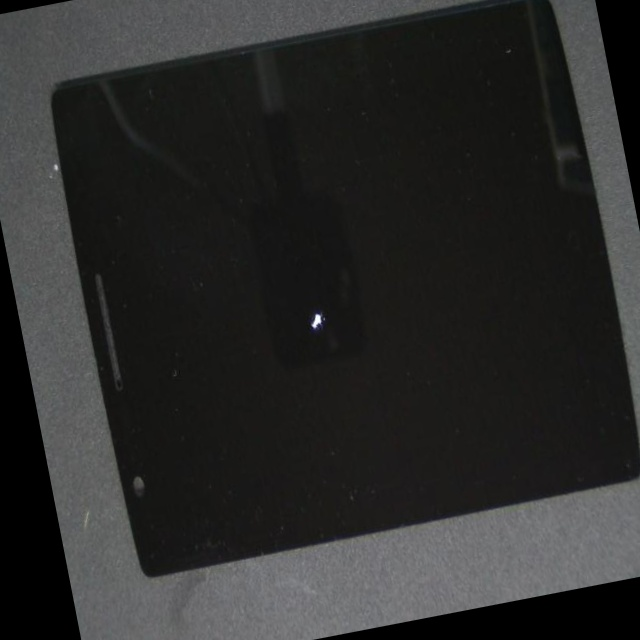stain: (161, 119, 516, 502)
